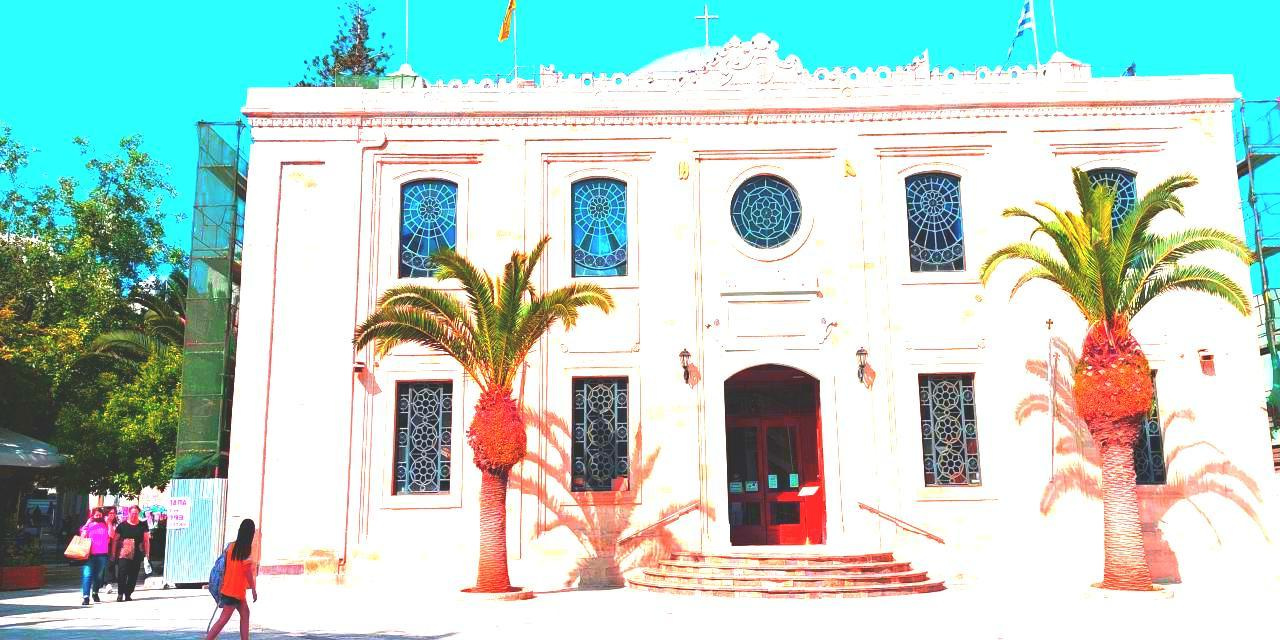Agios Titos: (217, 74, 1257, 590)
